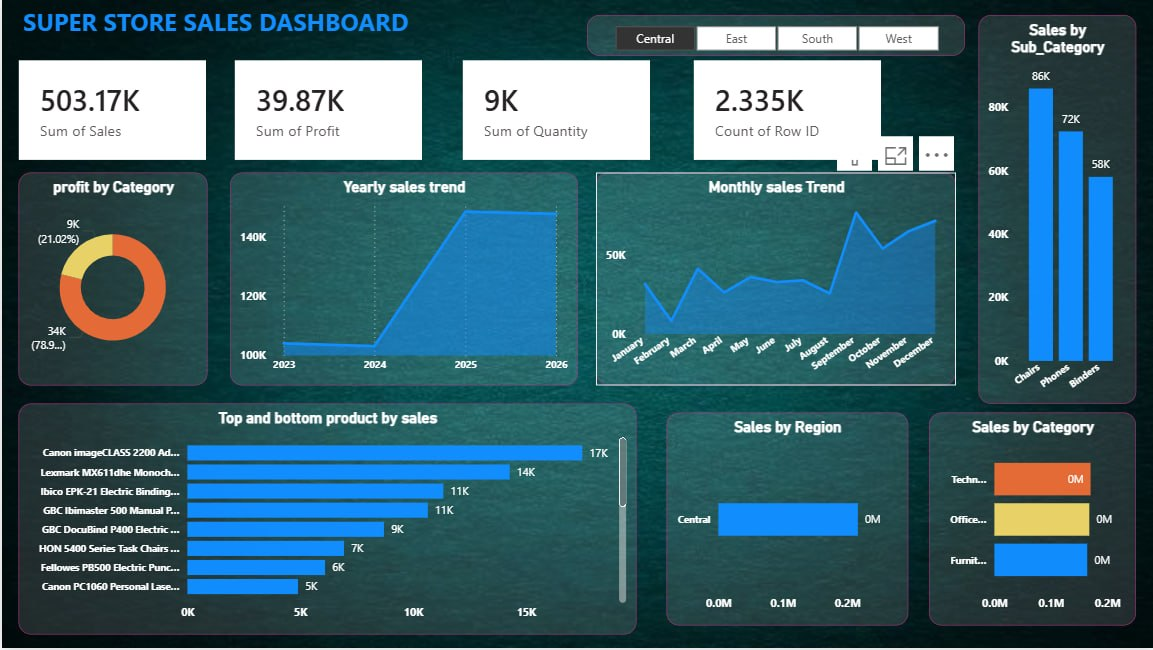

The page's visual inventory and layout, read from the dashboard file:
{"tool":"powerbi","page":{"name":"Page 1","canvas":[1280,720],"ordinal":0},"visuals":[{"type":"clusteredBarChart","title":"Sales by Category","fields":{"Category":["Orders.Category"],"Y":["Sum(Orders.Sales)"]},"box":[1030,458.3,230,236.7],"z":0},{"type":"clusteredColumnChart","title":"Sales by Sub_Category","fields":{"Category":["Orders.Sub-Category"],"Y":["Sum(Orders.Sales)"]},"box":[1085,16.7,175,431.7],"z":1000},{"type":"stackedAreaChart","title":" Monthly sales Trend","fields":{"Category":["Orders.Order Date.Variation.Date Hierarchy.Month"],"Y":["Sum(Orders.Sales)"]},"box":[660,191.7,400,236.7],"z":2000},{"type":"stackedAreaChart","title":"Yearly sales trend","fields":{"Category":["Orders.Order Date.Variation.Date Hierarchy.Year"],"Y":["Sum(Orders.Sales)"]},"box":[253.3,191.7,386.7,236.7],"z":3000},{"type":"clusteredBarChart","title":"Sales by Region","fields":{"Y":["Sum(Orders.Sales)"],"Category":["Orders.Region"]},"box":[738.3,458.3,268.3,236.7],"z":4000},{"type":"clusteredBarChart","title":"Top and bottom product by sales","fields":{"Category":["Orders.Product Name"],"Y":["Sum(Orders.Sales)"]},"box":[18.3,448.3,686.7,256.7],"z":5000},{"type":"slicer","fields":{"Values":["Orders.Region"]},"box":[650,16.7,420,45],"z":6000},{"type":"donutChart","title":"profit by Category","fields":{"Category":["Orders.Category"],"Y":["Sum(Orders.Profit)"]},"box":[18.3,191.7,210,236.7],"z":7000},{"type":"textbox","box":[18.3,0,488.3,93.3],"z":8000},{"type":"cardVisual","fields":{"Data":["Sum(Orders.Sales)"]},"box":[13.3,61.7,218.3,121.7],"z":9000},{"type":"cardVisual","fields":{"Data":["Sum(Orders.Profit)"]},"box":[253.3,61.7,218.3,121.7],"z":10000},{"type":"cardVisual","fields":{"Data":["Sum(Orders.Quantity)"]},"box":[506.7,61.7,218.3,121.7],"z":11000},{"type":"cardVisual","fields":{"Data":["CountNonNull(Orders.Row ID)"]},"box":[763.3,61.7,218.3,121.7],"z":12000}]}

Visuals, with their boxes in screenshot pixels (x1, y1, x2, y2), scaled from the page's 1280x720 canvas onto the 1153x650 screenshot:
"Sales by Category" clusteredBarChart: <box>928,414,1135,627</box>
"Sales by Sub_Category" clusteredColumnChart: <box>977,15,1135,405</box>
" Monthly sales Trend" stackedAreaChart: <box>595,173,955,387</box>
"Yearly sales trend" stackedAreaChart: <box>228,173,576,387</box>
"Sales by Region" clusteredBarChart: <box>665,414,907,627</box>
"Top and bottom product by sales" clusteredBarChart: <box>16,405,635,636</box>
slicer - Orders.Region: <box>586,15,964,56</box>
"profit by Category" donutChart: <box>16,173,206,387</box>
textbox: <box>16,0,456,84</box>
cardVisual - Sum(Orders.Sales): <box>12,56,209,166</box>
cardVisual - Sum(Orders.Profit): <box>228,56,425,166</box>
cardVisual - Sum(Orders.Quantity): <box>456,56,653,166</box>
cardVisual - CountNonNull(Orders.Row ID): <box>688,56,884,166</box>
